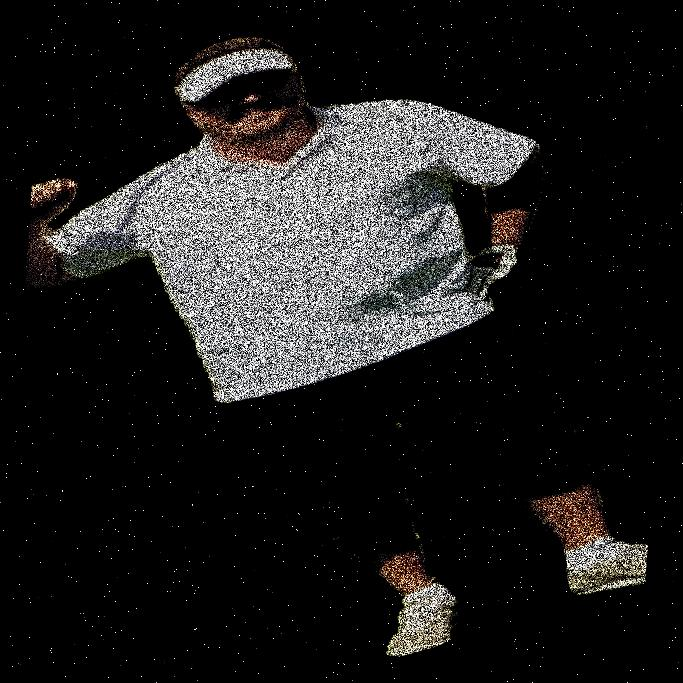Pessoa: (241, 0, 410, 682)
